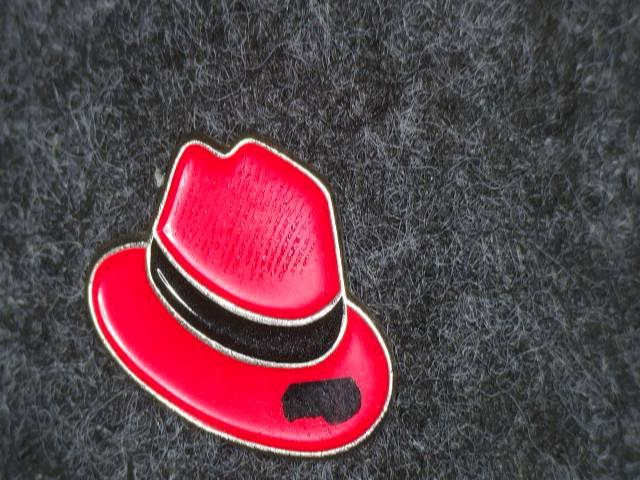Red-Hat: (61, 116, 431, 464)
Scratch: (266, 374, 371, 429)
